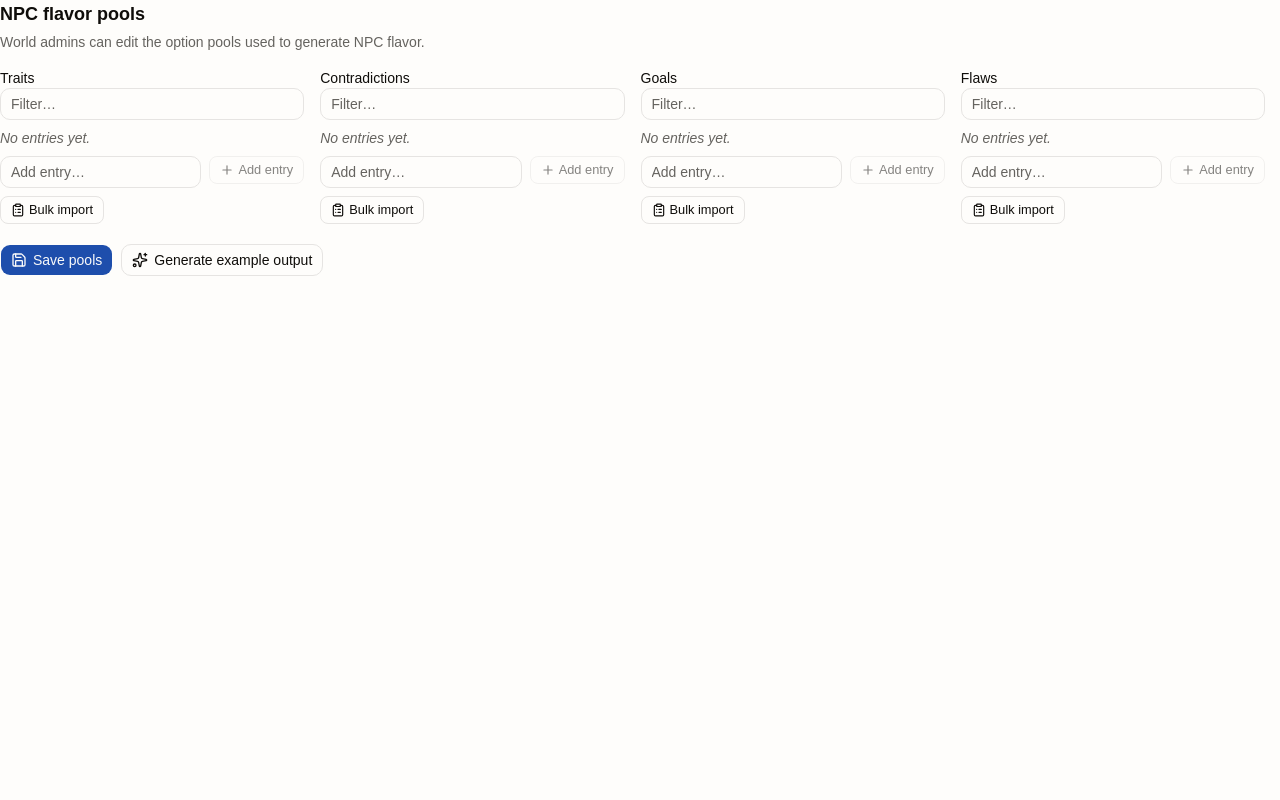
Test: WorldNpcFlavorConfigPanel › falls back to canonical placeholders when all pools are empty
Check: the heading "NPC flavor pools" is shown, box [0,4,145,24]
Click the button "Generate example output".
click(222, 260)  # box [121,244,323,276]
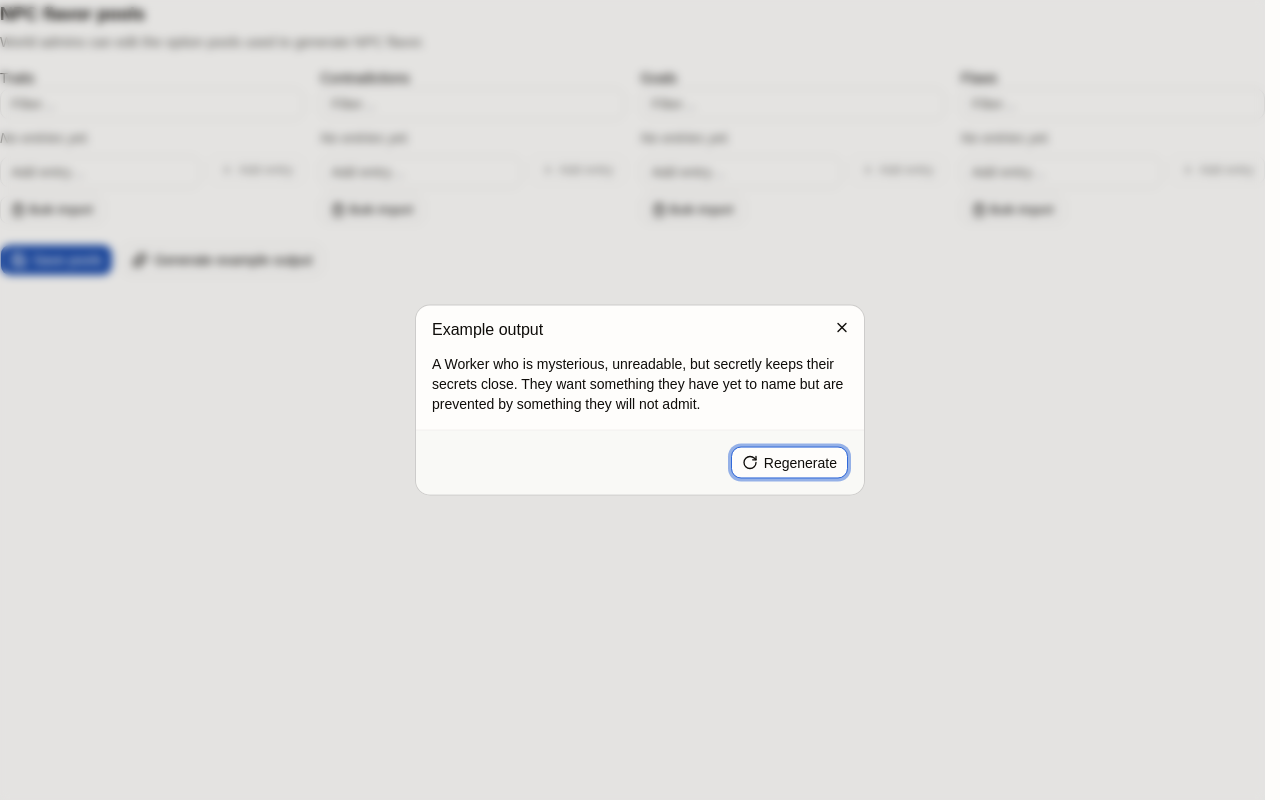
Check: the text "A Worker who is mysterious, unreadable, but secretly keeps their secrets close. They want something they have yet to nam" is shown, box [432,356,843,412]
